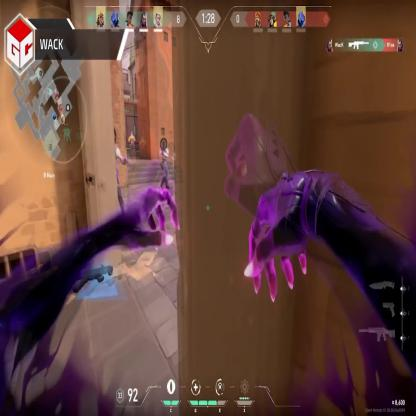enemy: (104, 126, 127, 217), (159, 138, 170, 190), (129, 128, 136, 159)
enemy_head: (106, 126, 116, 144), (160, 138, 166, 150), (130, 131, 133, 136)
